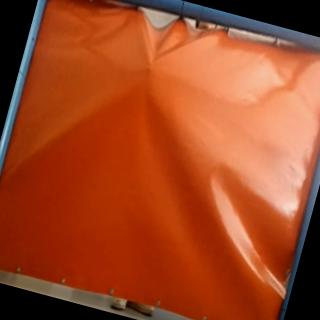Hit-hRxx: (142, 60, 157, 76)
